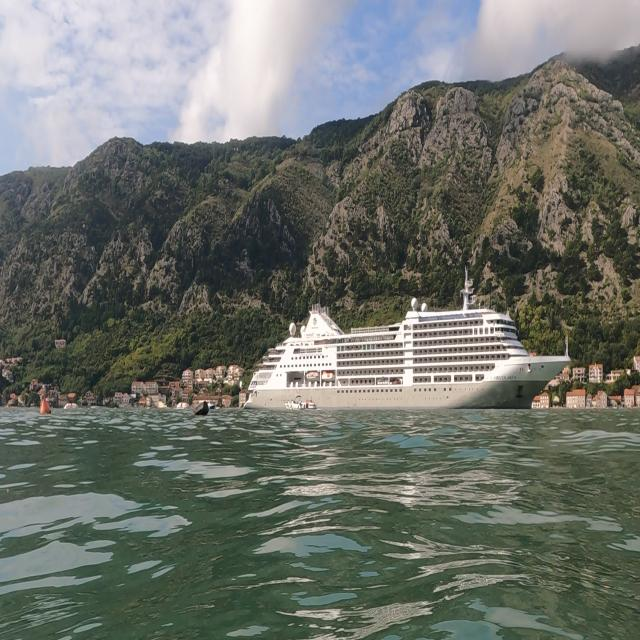boat: (240, 263, 572, 413)
buoy: (36, 389, 54, 422), (189, 393, 211, 420)
